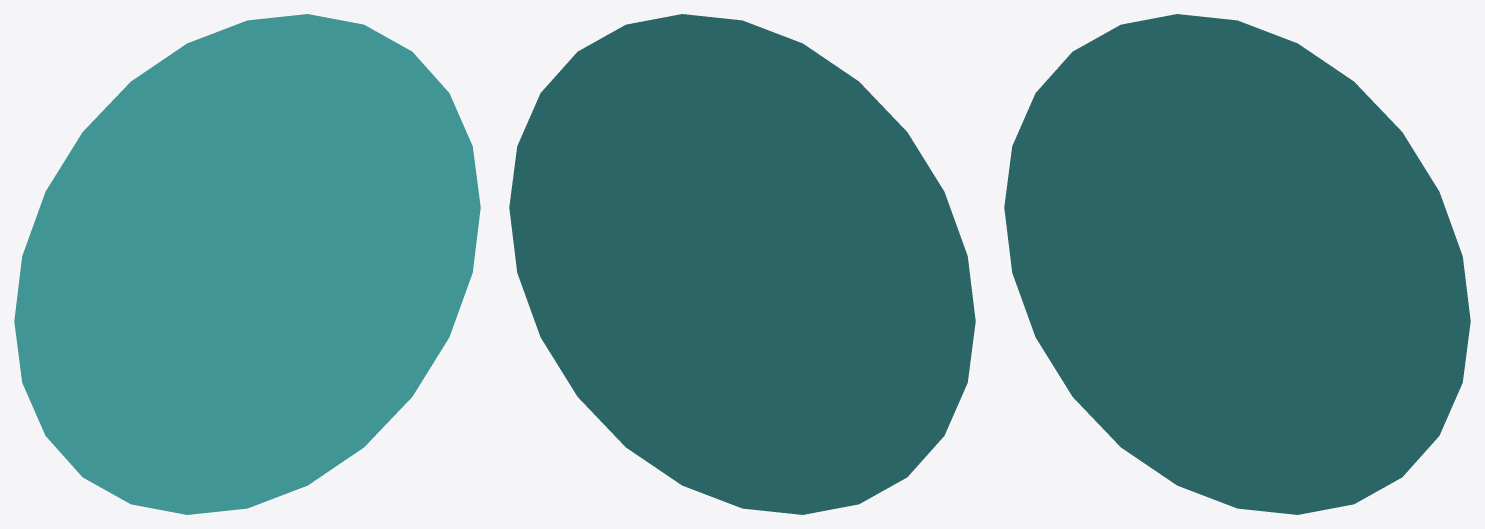
Rendered from original-13.obj.
3 renders of one model, left to right at view 1: azimuth 30°, elevation 25°; view 2: azimuth 150°, elevation 25°; view 3: azimuth 330°, elevation 25°, orthographic.
Visible parts, largest first — view 1: mesh2/mesh2-geometry/material_2/component_6#mesh2-geometry; view 2: mesh2/mesh2-geometry/material_2/component_6#mesh2-geometry; view 3: mesh2/mesh2-geometry/material_2/component_6#mesh2-geometry.
Part boxes in pixels (x1=…): mesh2/mesh2-geometry/material_2/component_6#mesh2-geometry: x1=14, y1=14, x2=480, y2=514; mesh2/mesh2-geometry/material_2/component_6#mesh2-geometry: x1=509, y1=14, x2=975, y2=514; mesh2/mesh2-geometry/material_2/component_6#mesh2-geometry: x1=1004, y1=14, x2=1470, y2=514.
Size of the model in its own units: 0.0445 by 0.0445 by 0.
